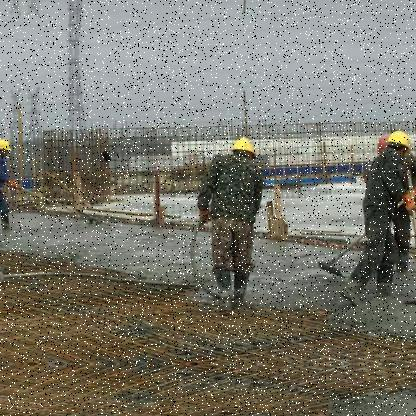Helmet: (225, 132, 265, 170), (381, 129, 415, 171), (0, 133, 15, 166)
